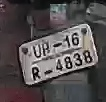1: (64, 37, 72, 48)
3: (73, 53, 84, 69)
4: (55, 59, 64, 73)
6: (72, 33, 79, 47)
8: (83, 49, 92, 65), (65, 55, 72, 71)
P: (40, 41, 51, 57)
R: (31, 65, 42, 81)
U: (33, 43, 44, 59)
